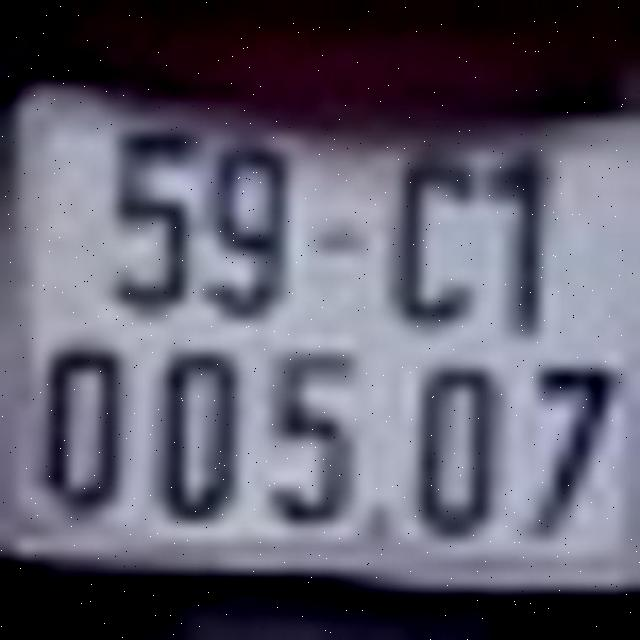0: (41, 339, 127, 518), (414, 359, 498, 539), (157, 345, 241, 524)
1: (490, 140, 554, 339)
5: (268, 345, 359, 527), (110, 123, 196, 314)
7: (523, 359, 616, 546)
9: (208, 137, 291, 322)
C: (387, 144, 480, 328)
